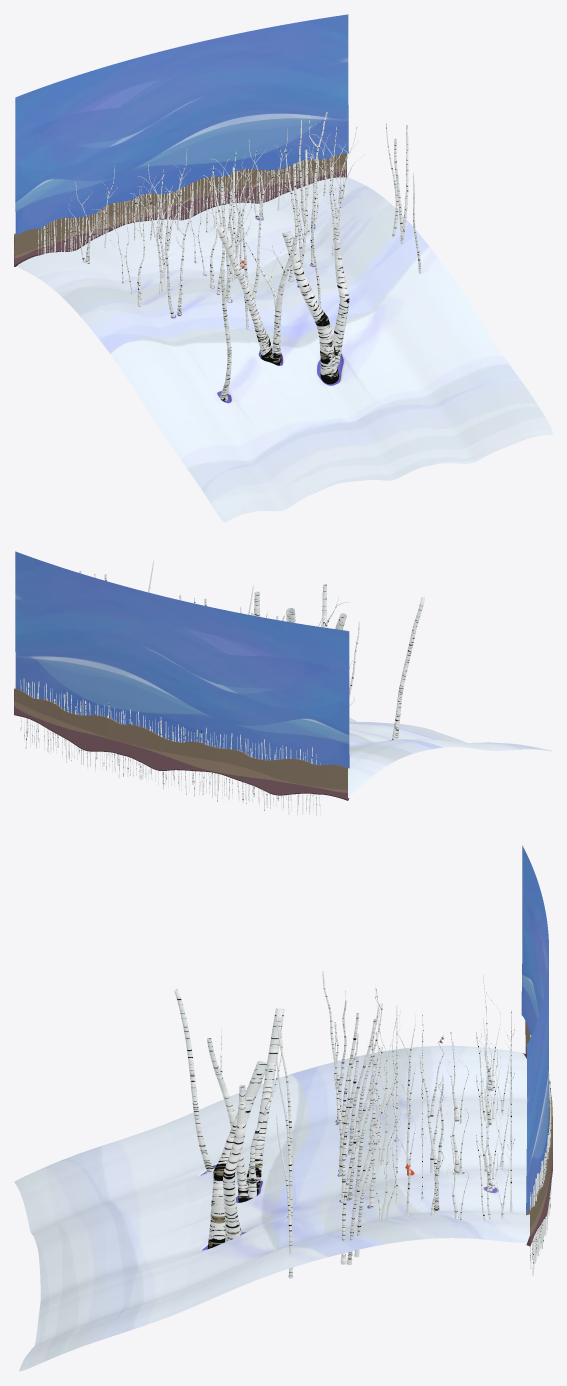
File: berezki.glb
3 views of the same model, one above another, from view 1: azimuth 30°, elevation 25°; view 2: azimuth 150°, elevation 25°; view 3: azimuth 270°, elevation 25° (orthographic). The views are drawn at different scales.
Visible parts, largest first — view 1: Back_Snow_0, Back_Sky_0, Cylinder.001_0; view 2: Back_Sky_0, Cylinder.001_0, Back_Snow_0; view 3: Back_Snow_0, Cylinder.001_0, Back_Sky_0.
Boxes of the visible parts, bbox=[...] form: Back_Snow_0: bbox=[17, 177, 552, 522]; Back_Sky_0: bbox=[14, 14, 348, 266]; Cylinder.001_0: bbox=[38, 112, 421, 401]; Back_Sky_0: bbox=[14, 551, 349, 800]; Cylinder.001_0: bbox=[20, 559, 424, 816]; Back_Snow_0: bbox=[348, 717, 552, 796]; Back_Snow_0: bbox=[14, 1045, 529, 1371]; Cylinder.001_0: bbox=[174, 971, 551, 1278]; Back_Sky_0: bbox=[521, 845, 552, 1246].
Bounding box in the file's own units: 37.88 × 30.55 × 43.11.
5 materials, 5 textured.
